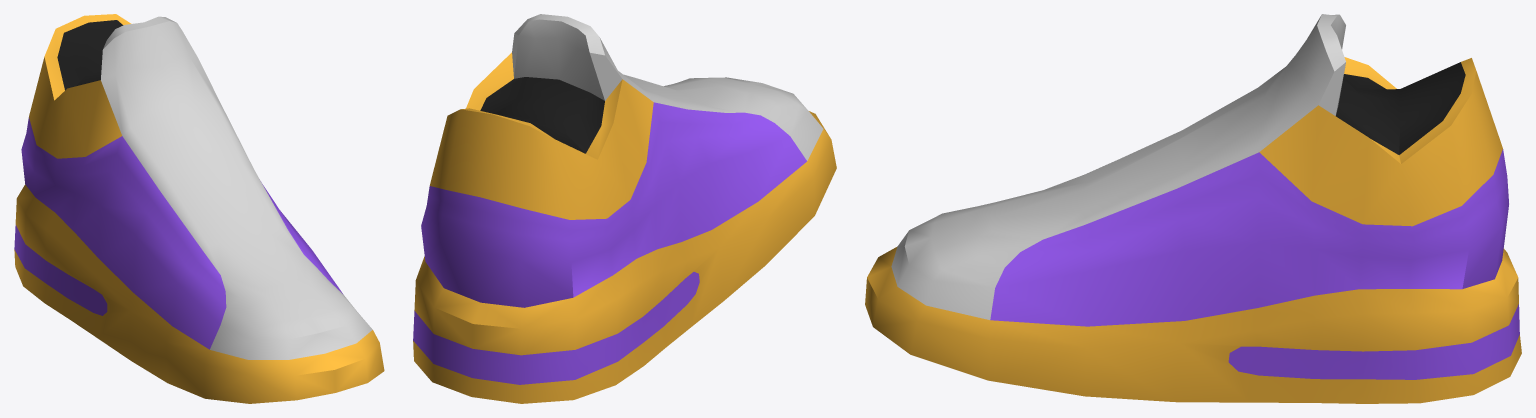
Rendered from Sneaker B.fbx.
3 views of the same model, side by side, from view 1: azimuth 30°, elevation 25°; view 2: azimuth 150°, elevation 25°; view 3: azimuth 270°, elevation 25° (orthographic). The views are drawn at different scales.
Visible parts, largest first — view 1: Sneakers B; view 2: Sneakers B; view 3: Sneakers B.
Boxes of the visible parts, bbox=[...] form: Sneakers B: bbox=[14, 14, 384, 403]; Sneakers B: bbox=[413, 14, 836, 403]; Sneakers B: bbox=[865, 14, 1521, 403].
Size of the model in its own units: 35.38 by 53.81 by 96.74.
